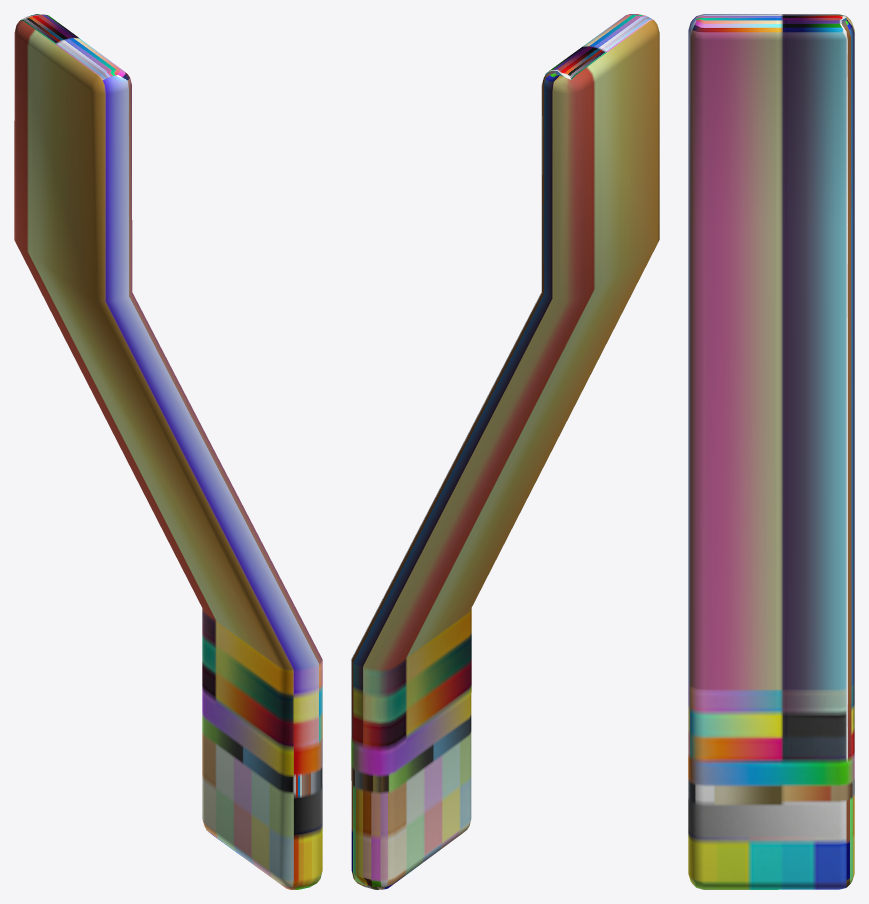
File: WayTube.fbx
3 views of the same model, side by side, from view 1: azimuth 30°, elevation 25°; view 2: azimuth 150°, elevation 25°; view 3: azimuth 270°, elevation 25° (orthographic). The views are drawn at different scales.
Parts seen in each view (by area): view 1: Cube.014; view 2: Cube.014; view 3: Cube.014.
Boxes of the visible parts, x1,y1,x2,y2 form: Cube.014: [14, 14, 322, 889]; Cube.014: [351, 14, 659, 889]; Cube.014: [688, 14, 854, 889].
Size of the model in its own units: 3.4 by 12.21 by 2.34.
